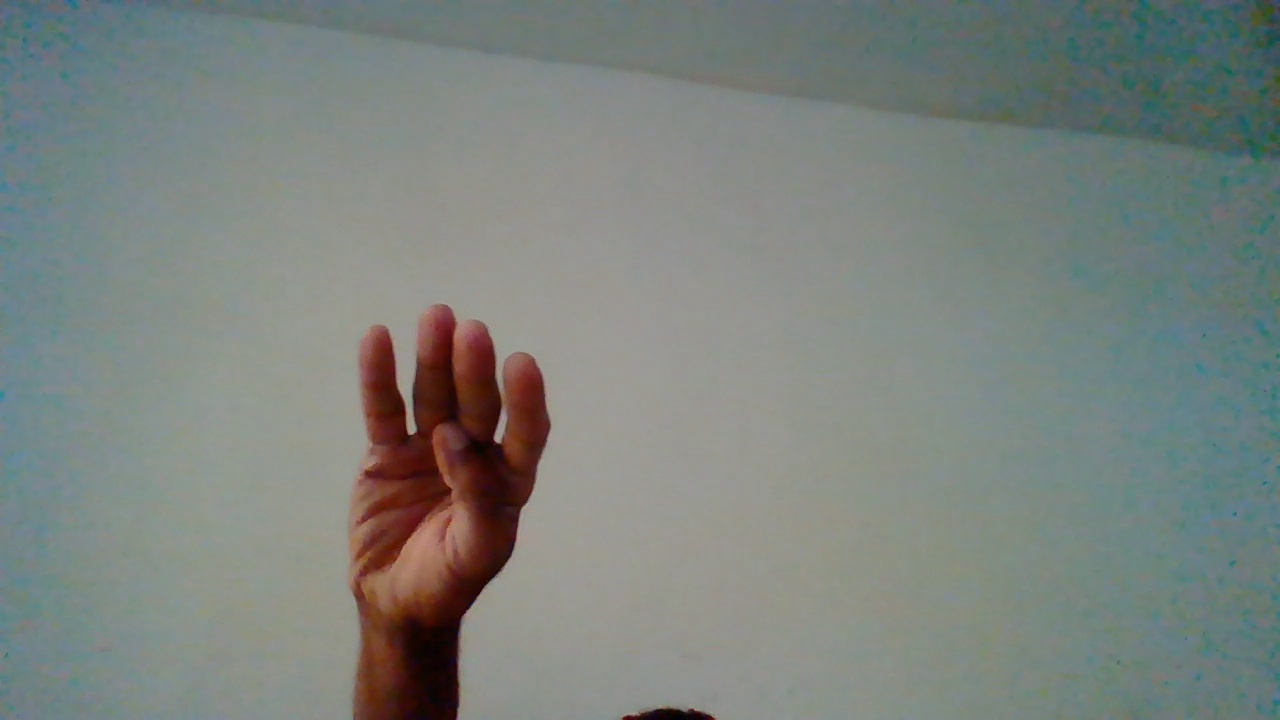me: (347, 300, 572, 702)
